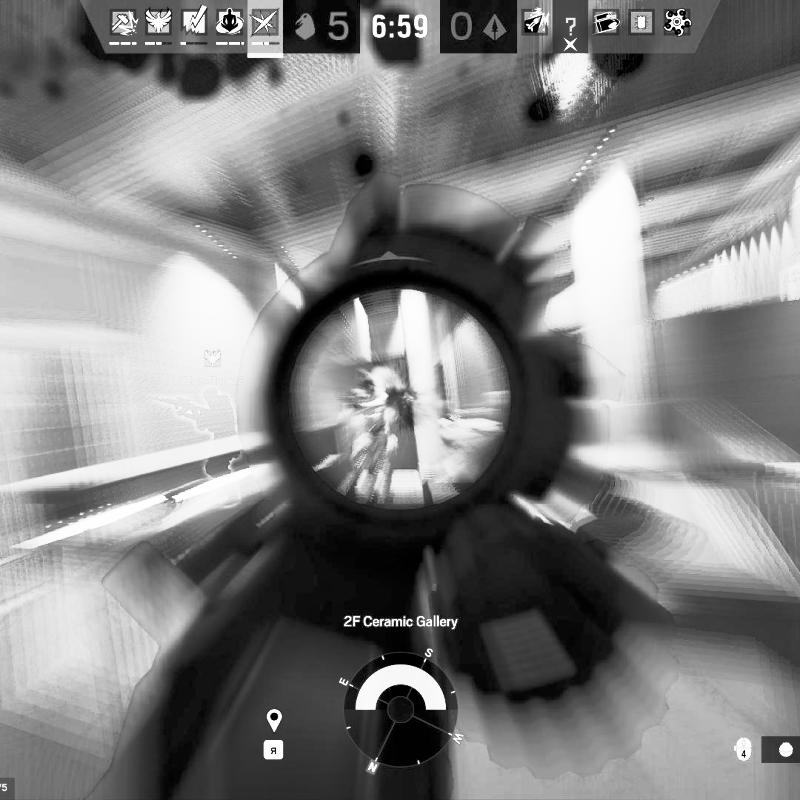Character: (348, 368, 396, 507)
Friend_label: (180, 346, 246, 386)
Head: (356, 374, 375, 394)
